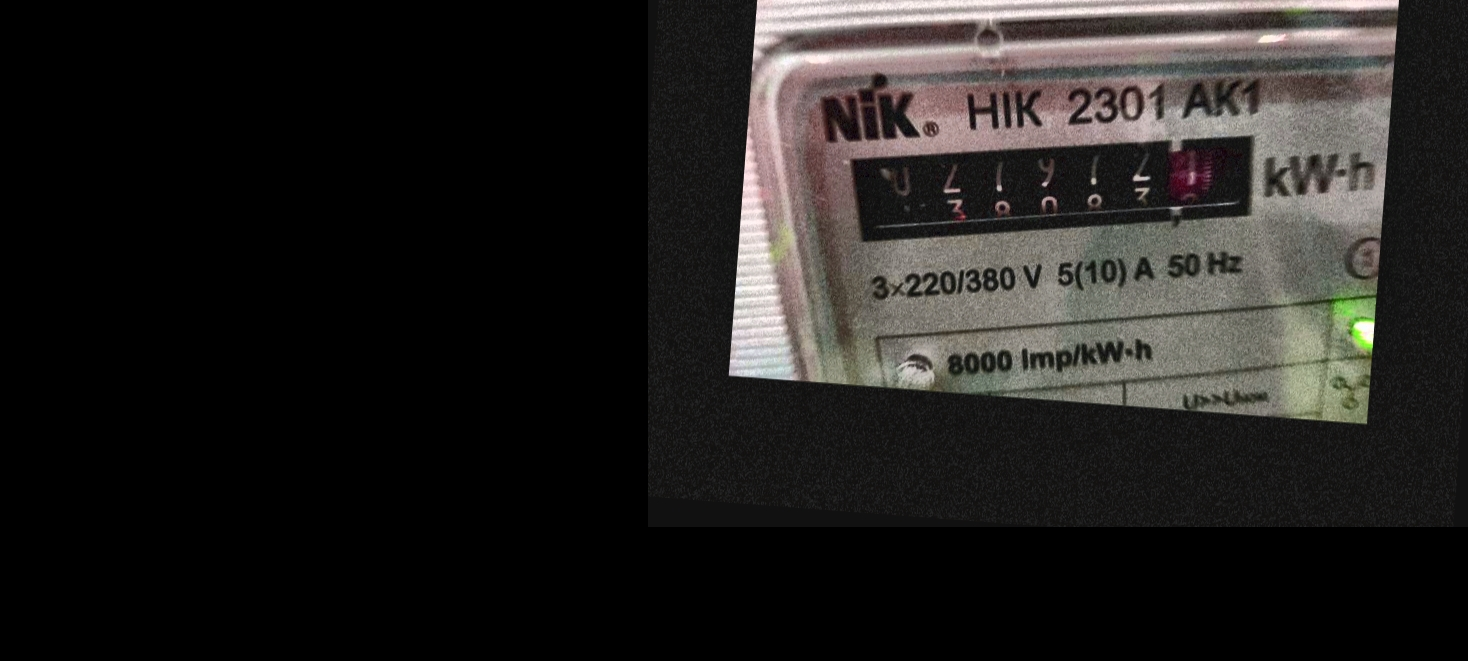0: (884, 158, 915, 196)
1: (1179, 143, 1204, 187)
2: (934, 152, 965, 193), (1125, 143, 1156, 182)
7: (1077, 144, 1106, 187), (984, 153, 1010, 192)
9: (1031, 150, 1060, 187)
screen: (826, 93, 1288, 280)
